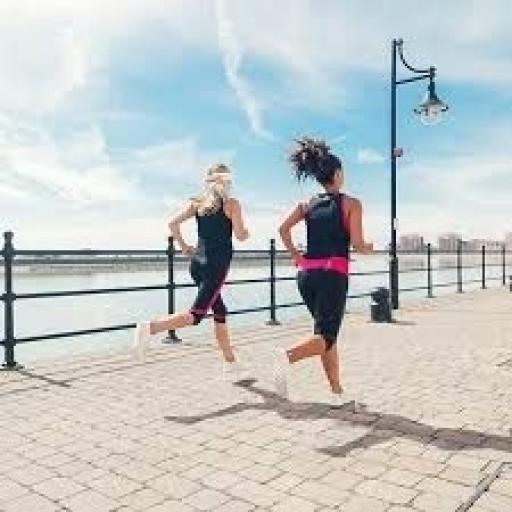running: (128, 160, 260, 392), (271, 134, 378, 412)
